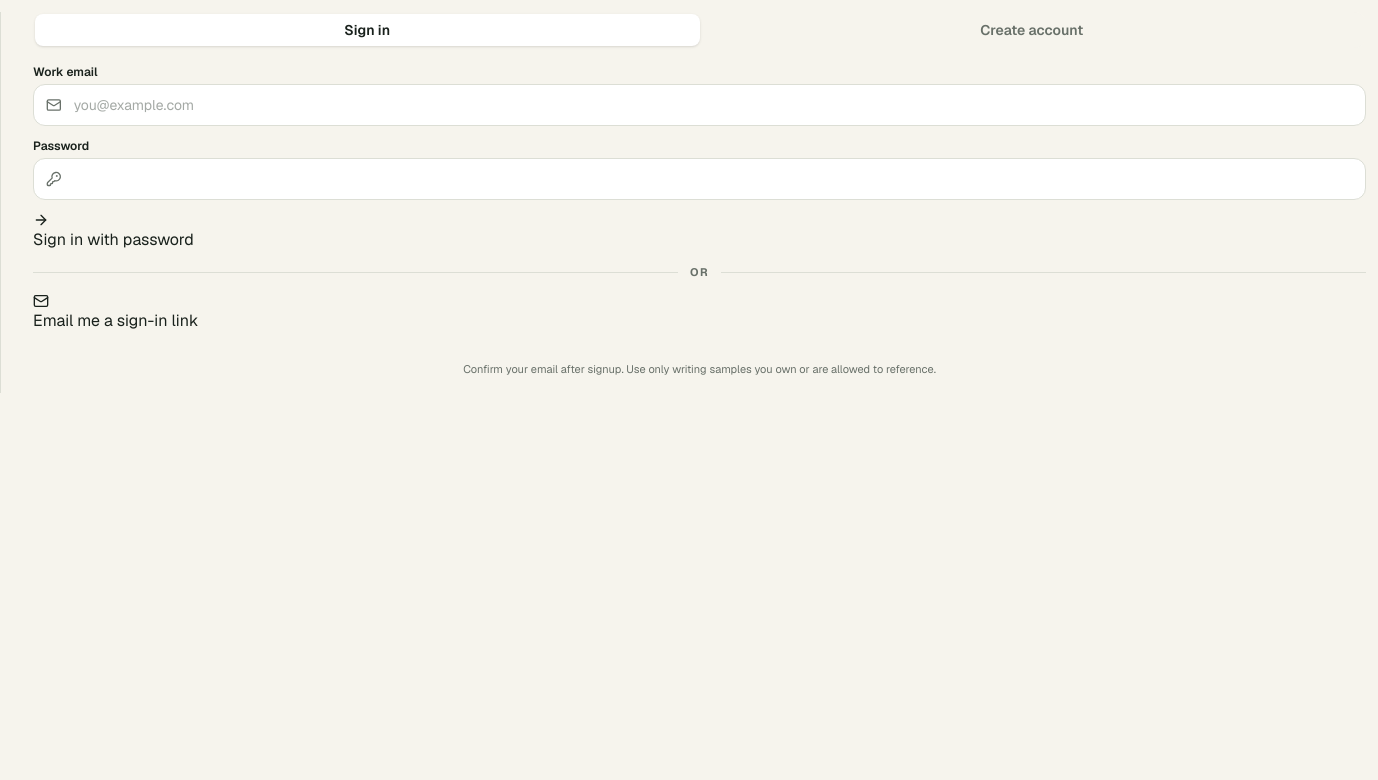
LoginForm › shows the confirmation state after registration
Click the button "Create account". click: (1032, 30)
box: [700,14,1364,46]
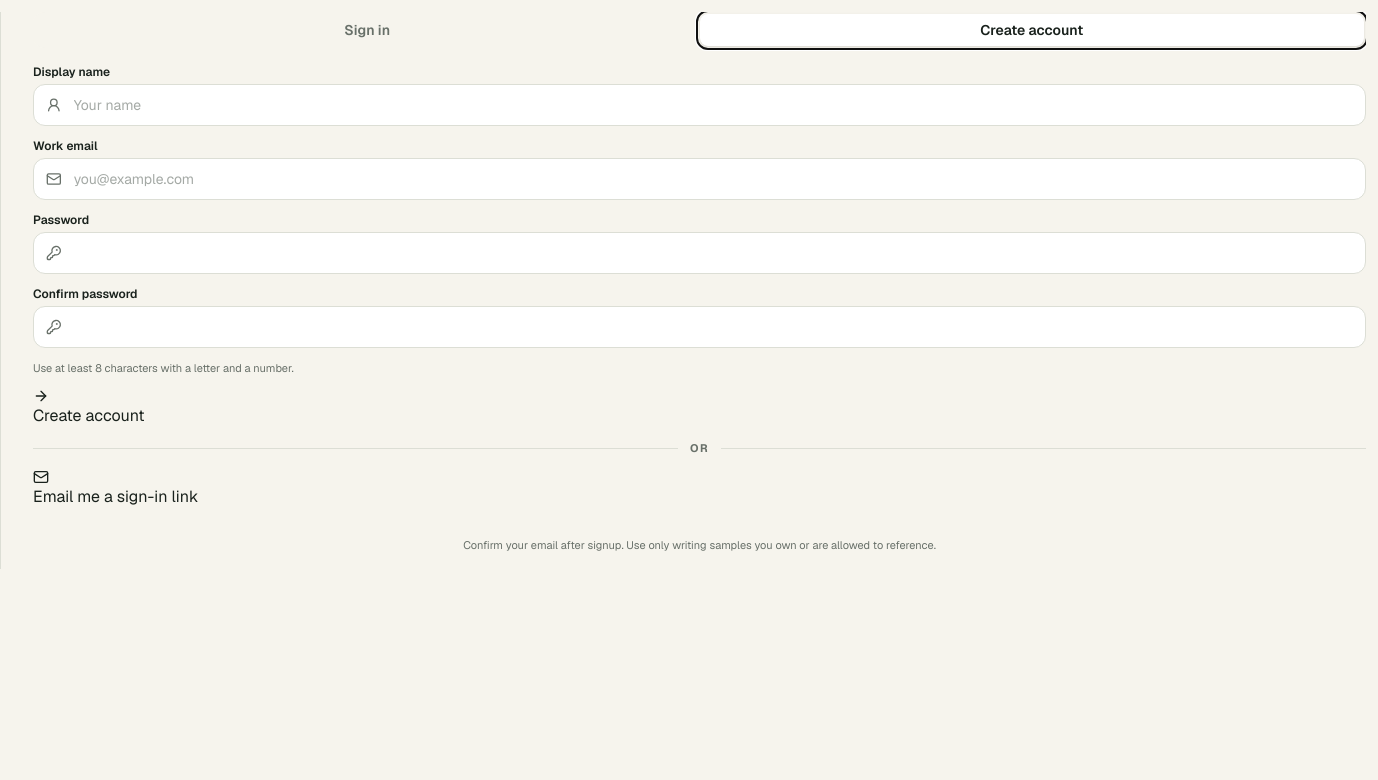
Type "Ankit" into the field labelled "Display name". click: (713, 105)
box: [74,85,1353,125]
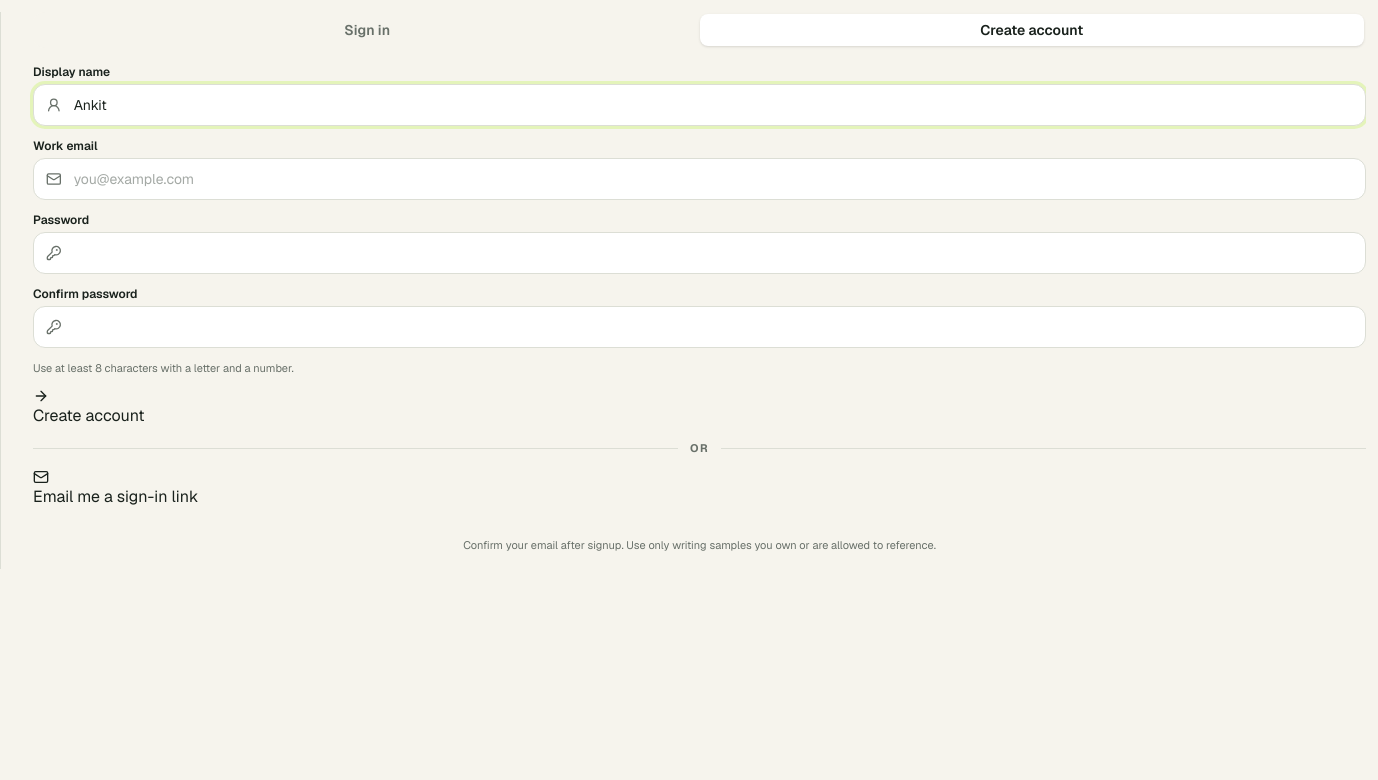
Type "writer@example.com" into the field labelled "Work email". click: (713, 179)
box: [74,159,1353,199]
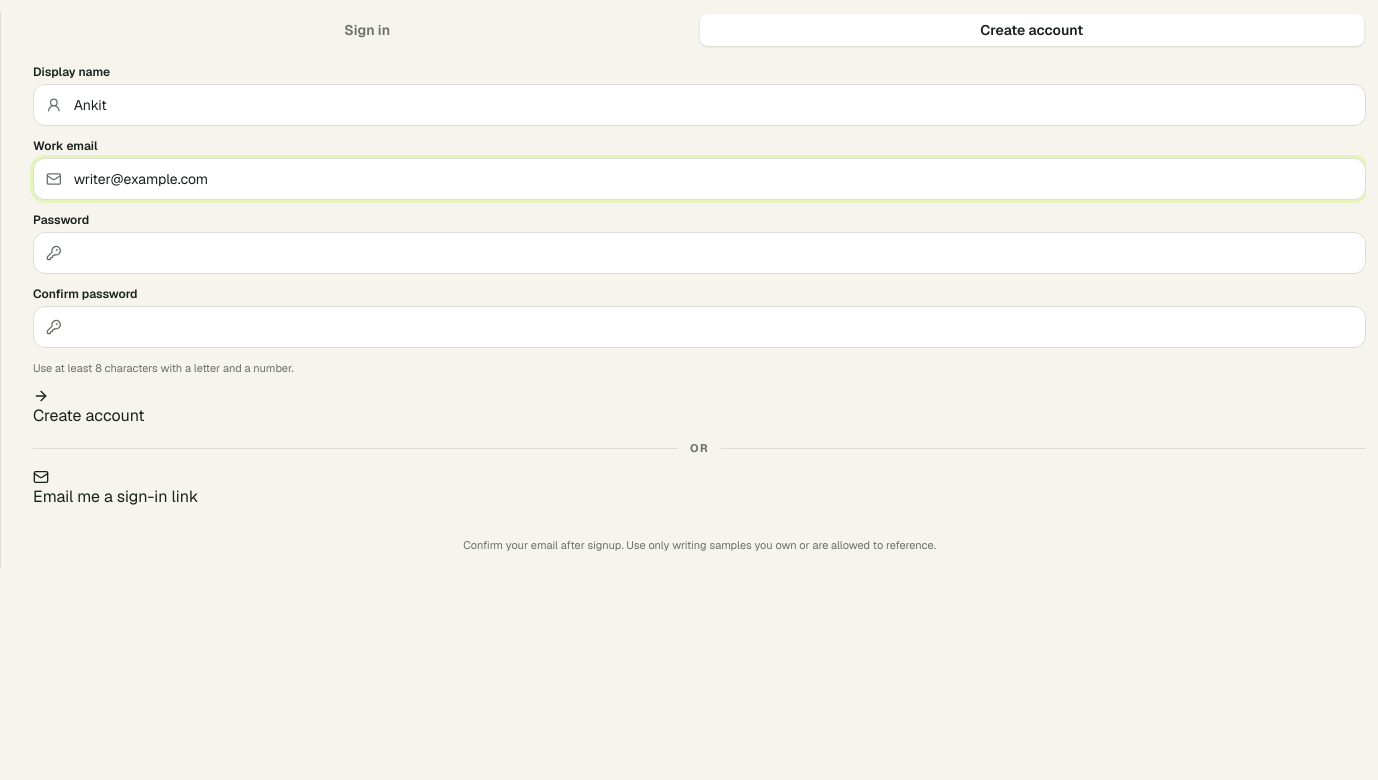
Type "writing123" into the password field labelled "Password". click: (713, 253)
box: [74,233,1353,273]
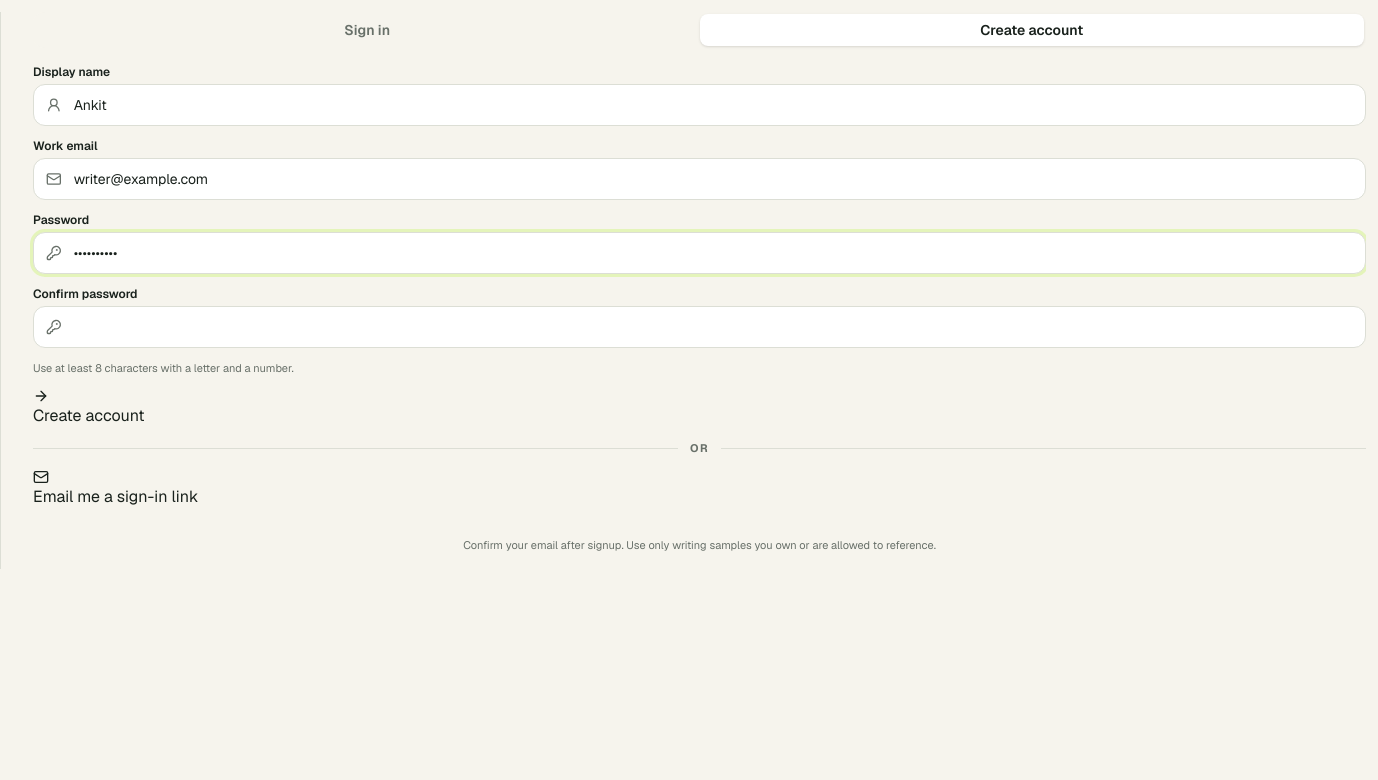
Type "writing123" into the password field labelled "Confirm password". click: (713, 327)
box: [74,307,1353,347]
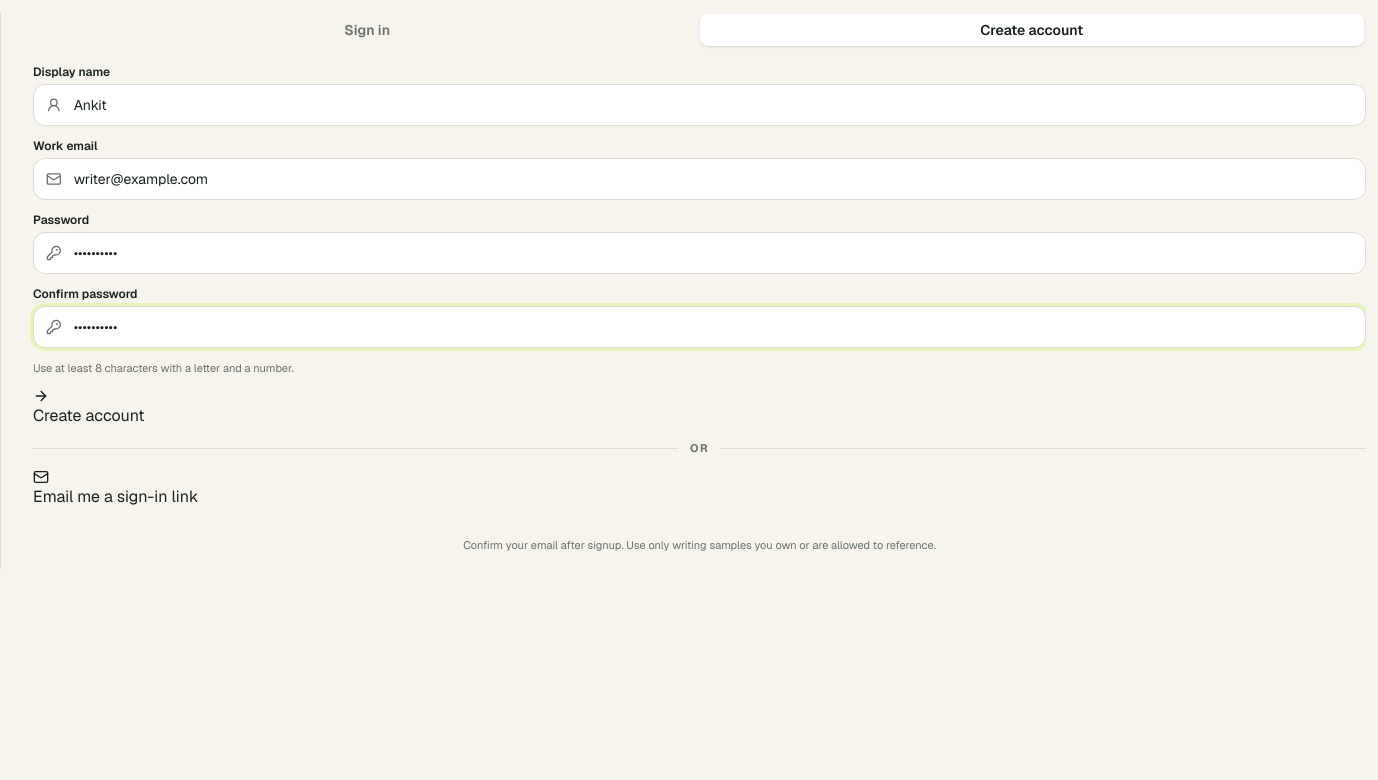
Click the button "Create account" below "Confirm password". click: (89, 408)
box: [33,388,145,428]
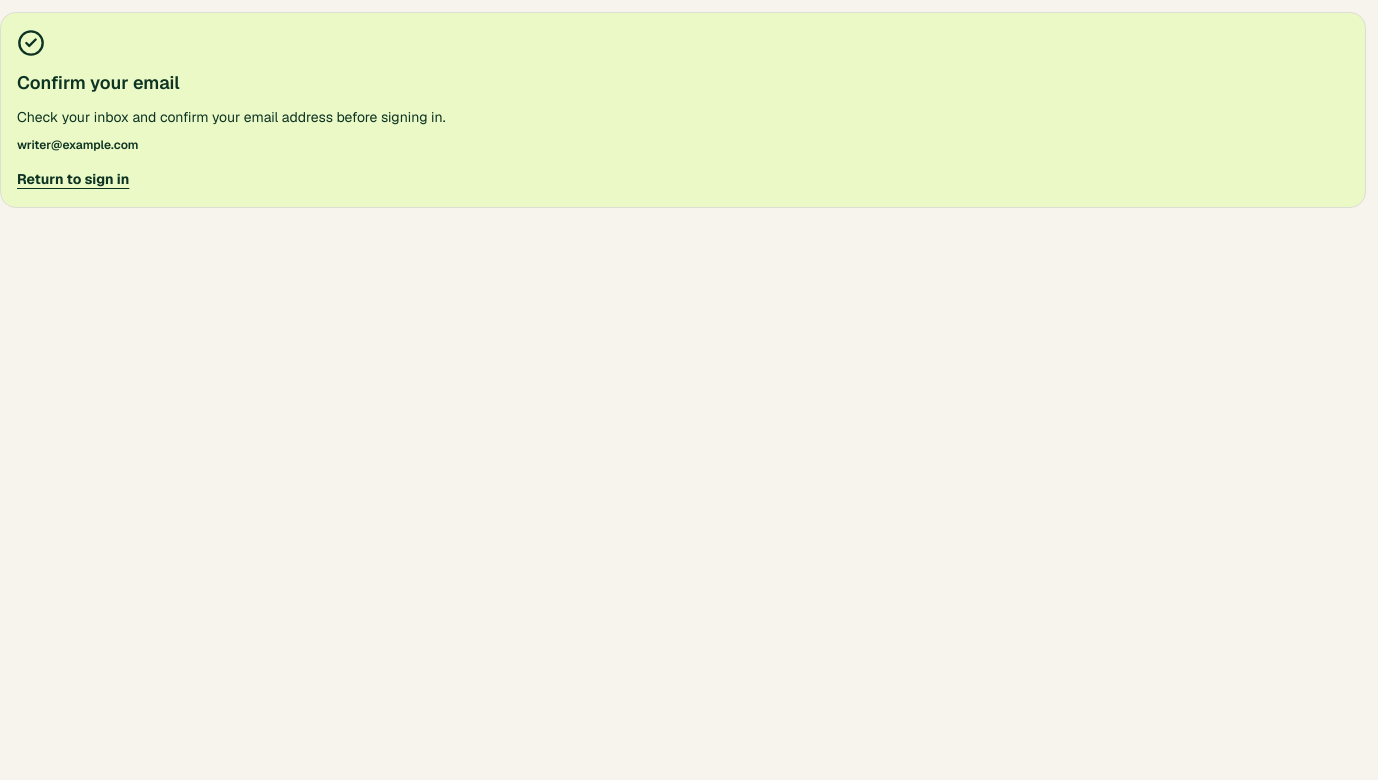
Expected: the heading "Confirm your email" is shown, [17,71,180,94]
Expected: the text "writer@example.com" is shown, [17,137,138,153]
